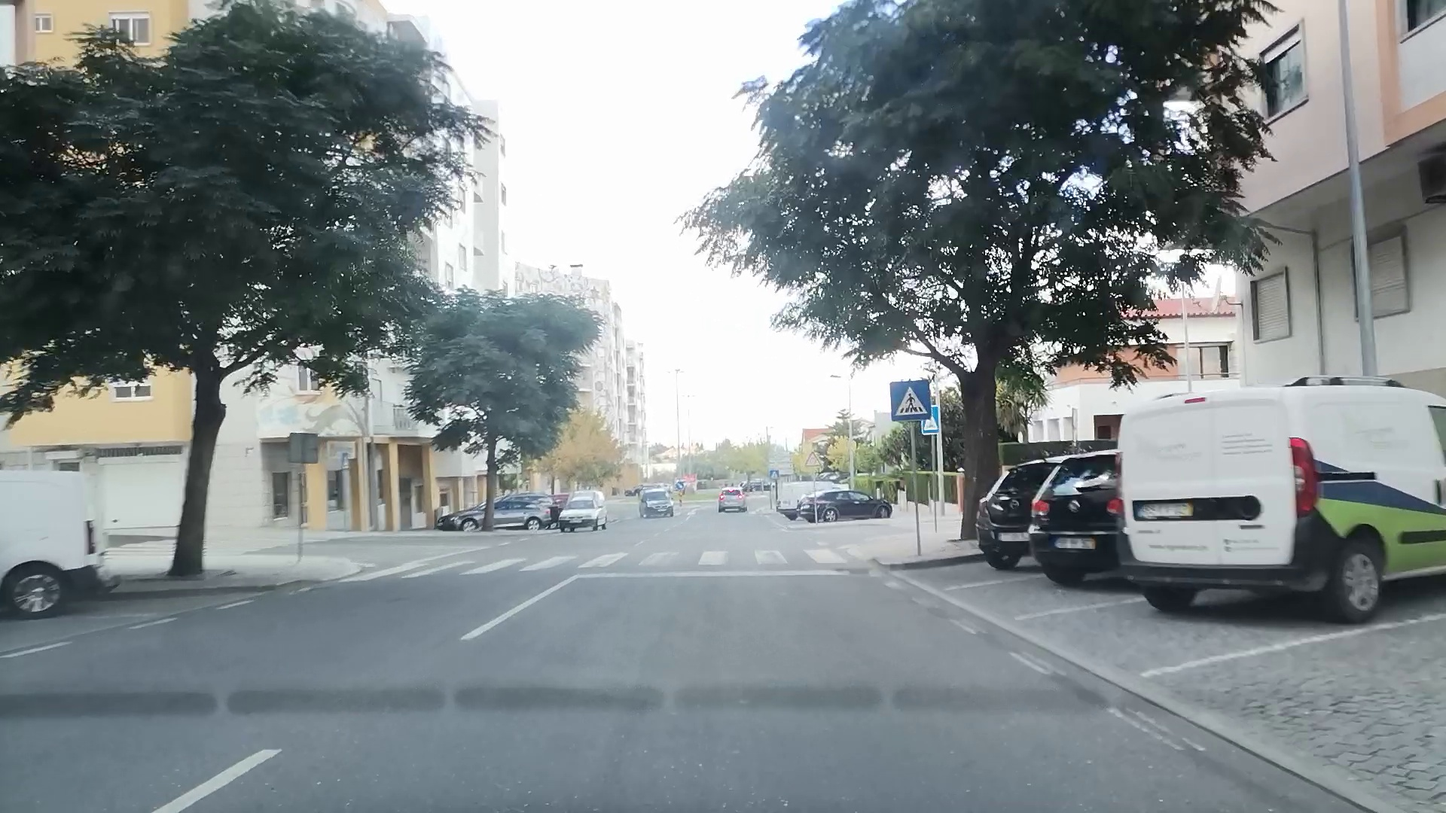Stairs: (345, 547, 850, 582)
